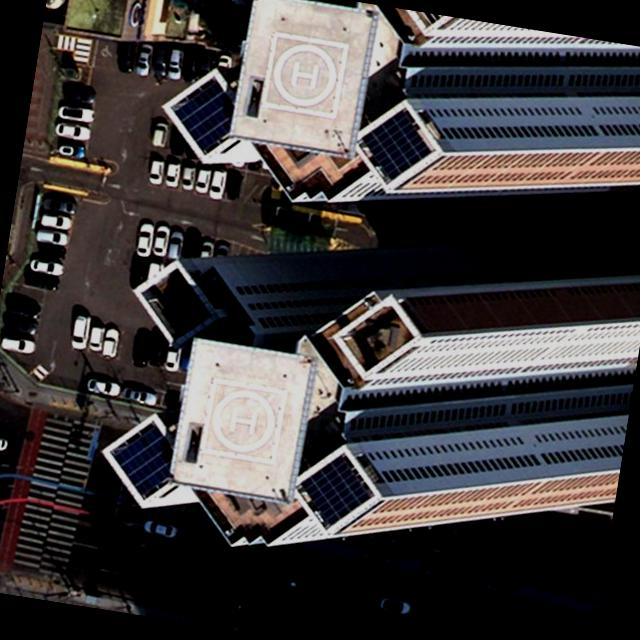solar: (292, 447, 378, 537), (354, 102, 441, 188), (102, 417, 182, 506), (166, 76, 247, 160)
